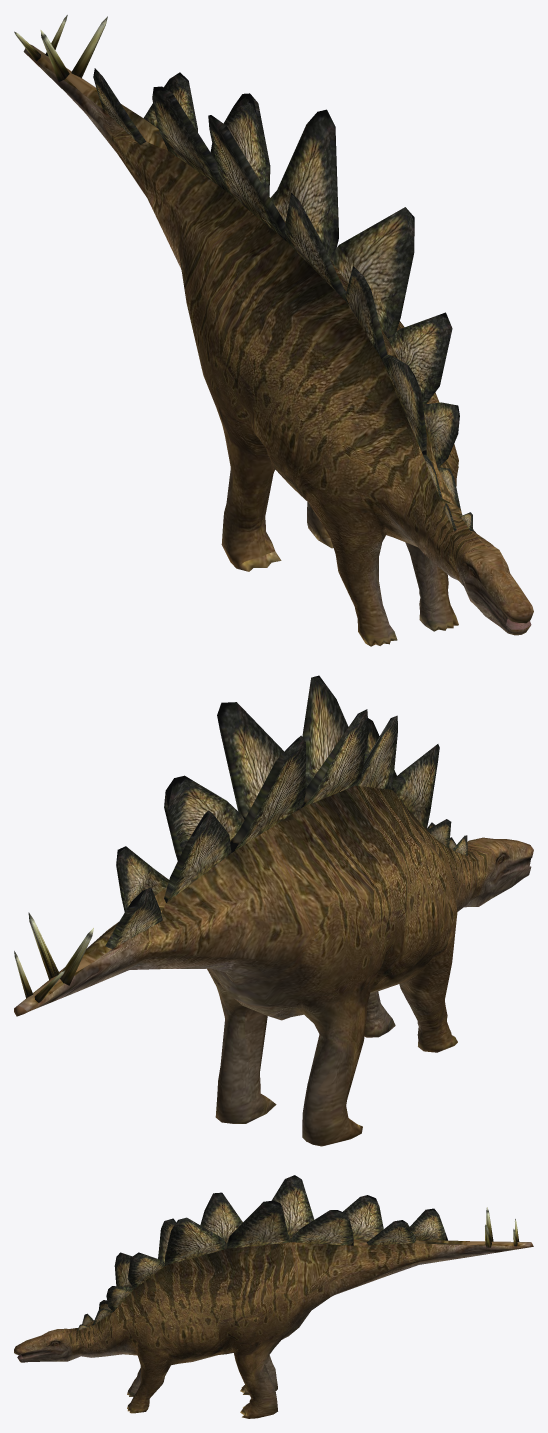
The picture shows the model from 3 angles, top to bottom: view 1: azimuth 30°, elevation 25°; view 2: azimuth 150°, elevation 25°; view 3: azimuth 270°, elevation 25°; orthographic projection. The views are drawn at different scales.
Parts seen in each view (by area): view 1: Stegosaurus; view 2: Stegosaurus; view 3: Stegosaurus.
Boxes of the visible parts, bbox=[...] form: Stegosaurus: bbox=[14, 15, 533, 646]; Stegosaurus: bbox=[14, 675, 533, 1146]; Stegosaurus: bbox=[14, 1175, 533, 1418].
Size of the model in its own units: 1.79 by 4.49 by 9.79.
Materials: 2 (2 with a texture image).
